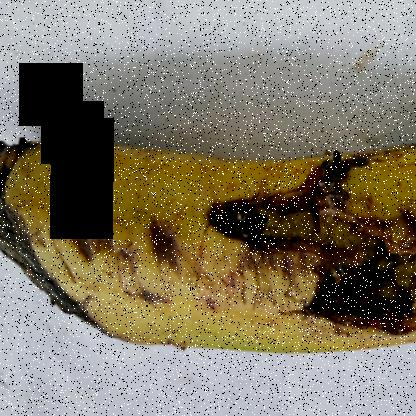rotten: (0, 103, 415, 391)
